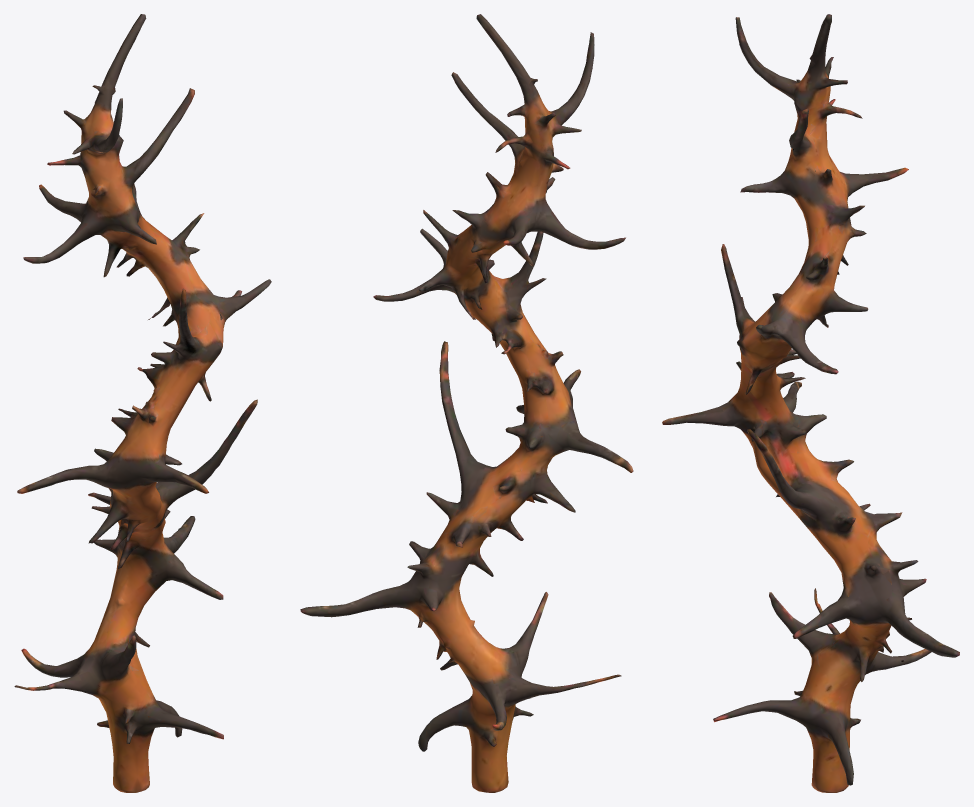
Rendered from thornvine.glb.
3 renders of one model, left to right at view 1: azimuth 30°, elevation 25°; view 2: azimuth 150°, elevation 25°; view 3: azimuth 270°, elevation 25°, orthographic.
Visible parts, largest first — view 1: Mesh1.0; view 2: Mesh1.0; view 3: Mesh1.0.
Part boxes in pixels (box(x1,y1,x2,y2)): Mesh1.0: box(14, 14, 271, 792); Mesh1.0: box(300, 14, 633, 792); Mesh1.0: box(662, 14, 959, 792).
Size of the model in its own units: 0.662 by 1.91 by 0.6634.
1 material, 1 textured.
